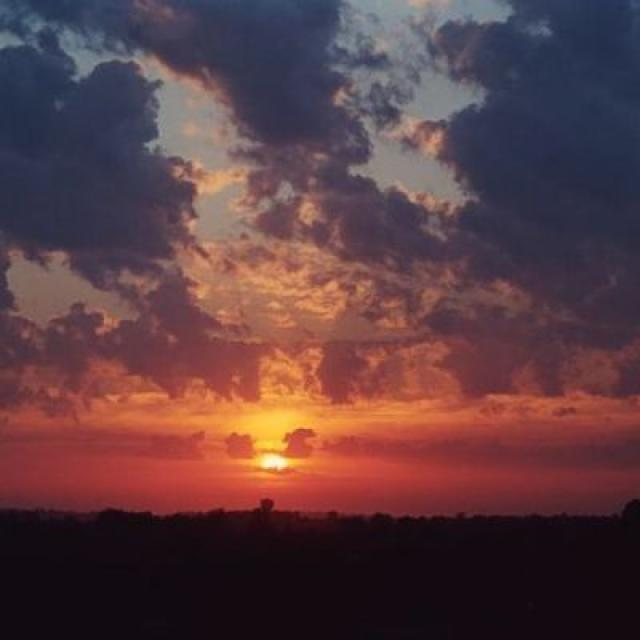Ac: (6, 19, 640, 412)
